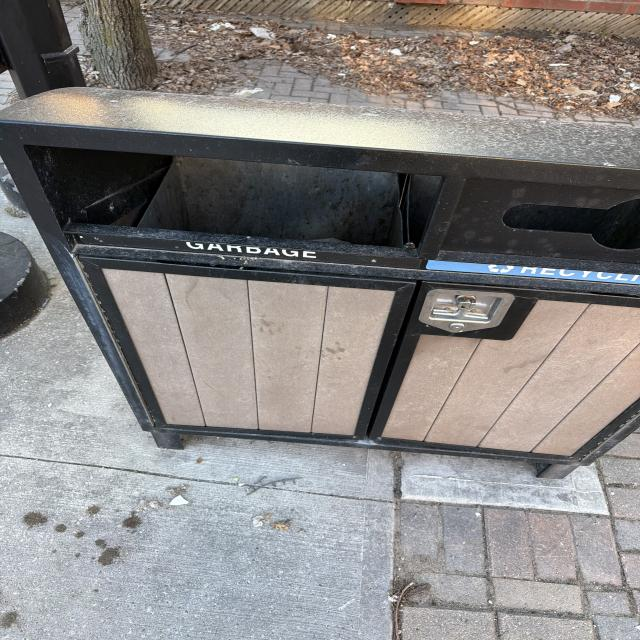Dustbin: (2, 89, 640, 484)
